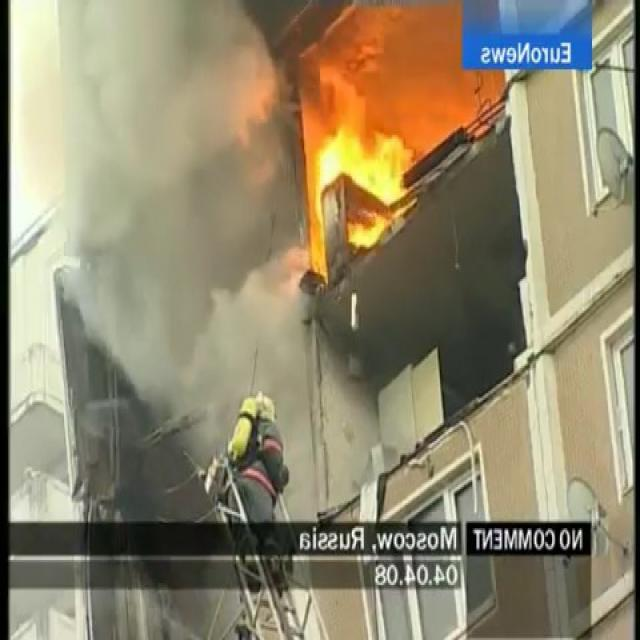fire: (309, 101, 415, 252)
